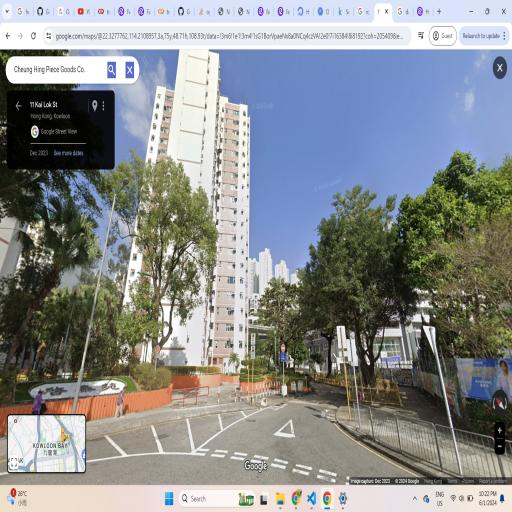Roads: (7, 380, 412, 480)
Trees: (95, 142, 225, 370), (290, 179, 412, 418), (402, 132, 512, 346)
